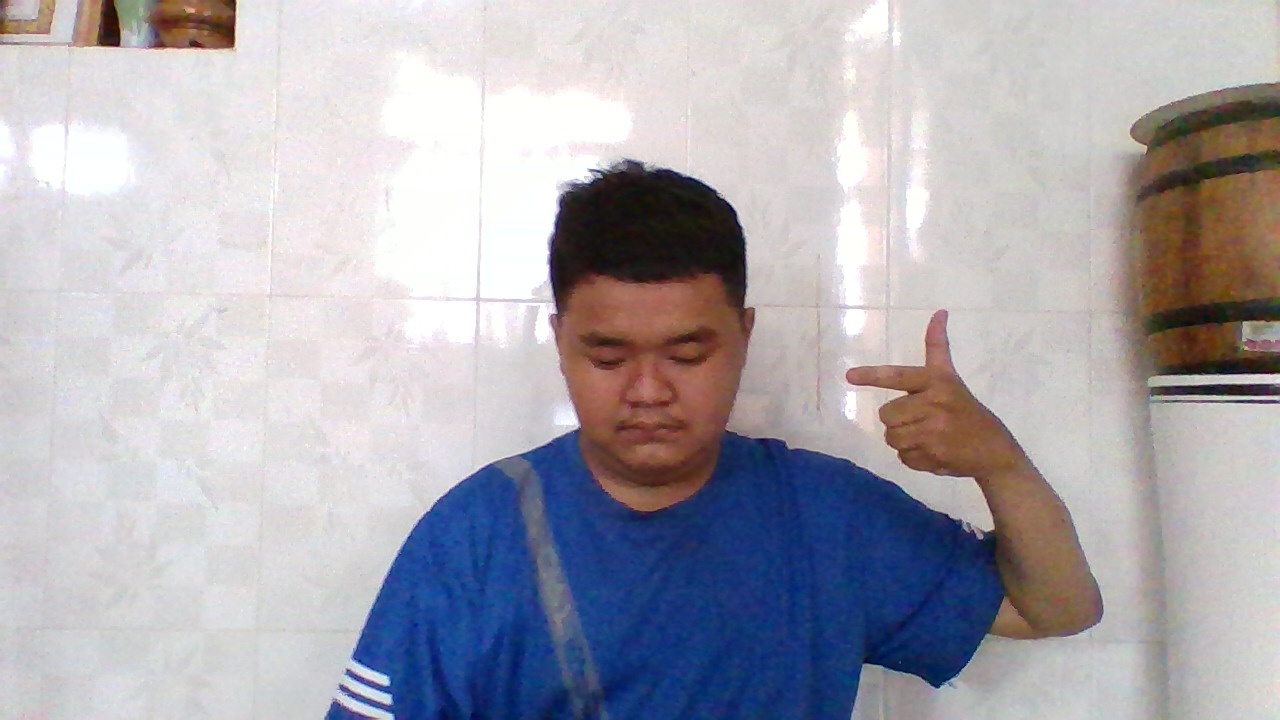G: (832, 301, 1015, 475)
